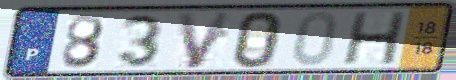0: (229, 9, 284, 70), (289, 9, 343, 68)
3: (116, 13, 167, 68)
8: (58, 13, 107, 70)
H: (338, 10, 408, 67)
V: (174, 9, 236, 71)
